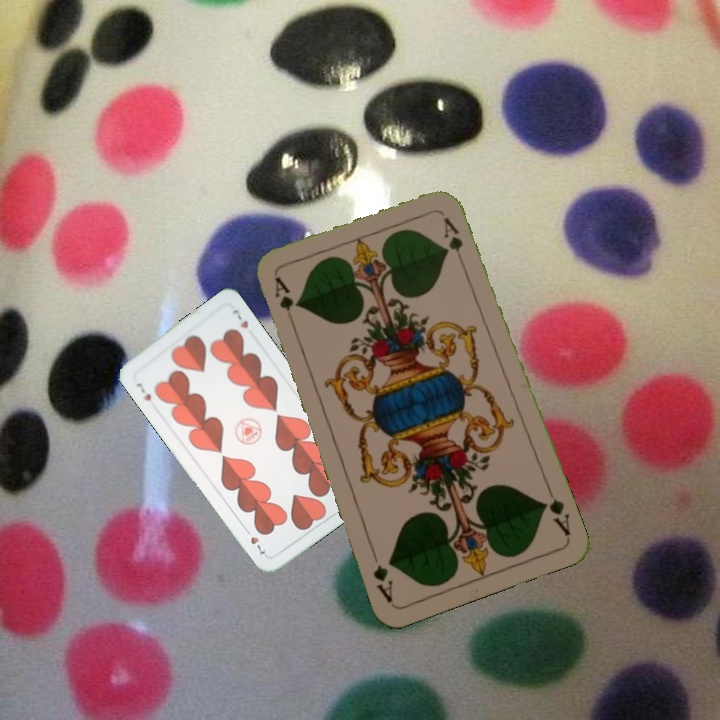GA: (538, 483, 573, 539), (270, 273, 298, 330)
H7: (132, 378, 154, 404)
